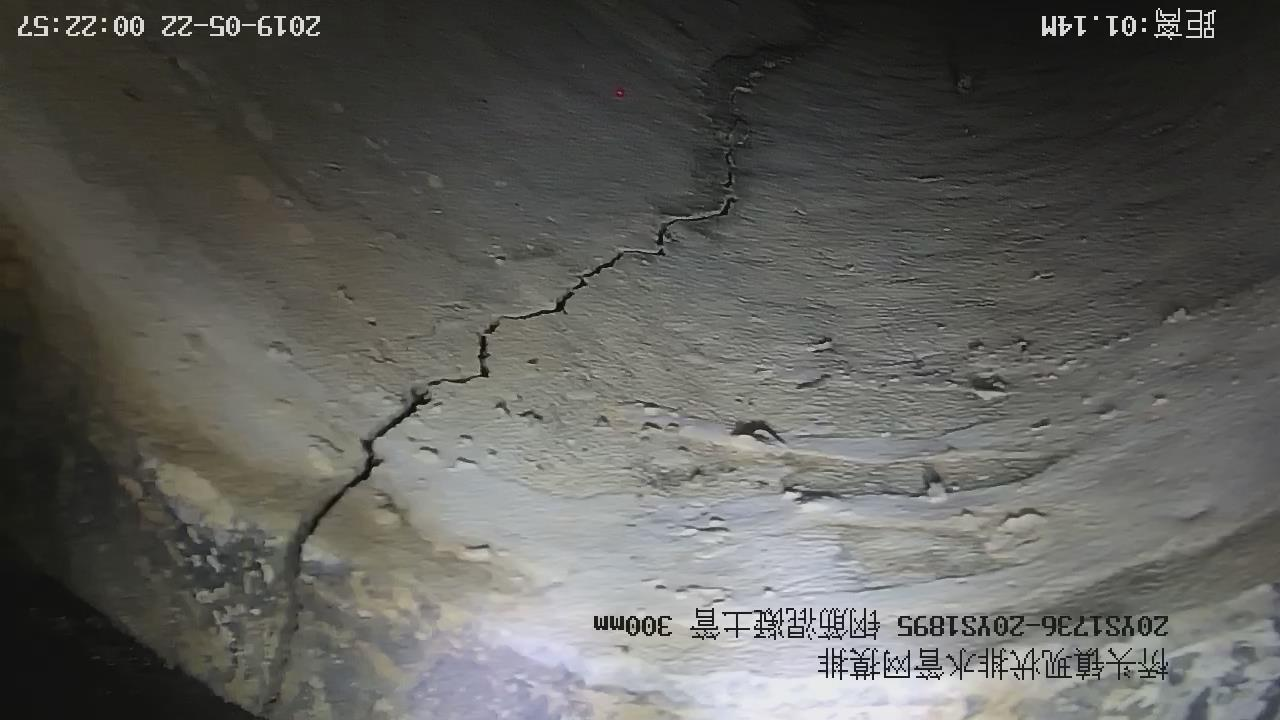PL: (245, 37, 834, 717)
